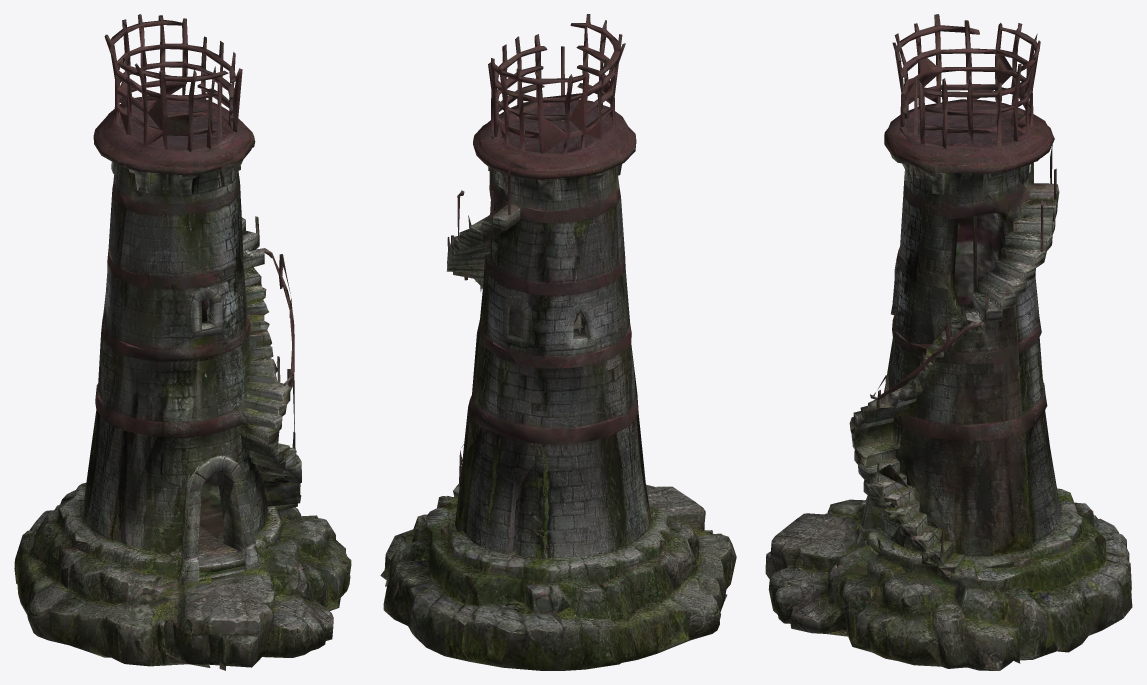
3 views of the same model, side by side, from view 1: azimuth 30°, elevation 25°; view 2: azimuth 150°, elevation 25°; view 3: azimuth 270°, elevation 25° (orthographic).
Visible parts, largest first — view 1: Mesh_0; view 2: Mesh_0; view 3: Mesh_0.
Boxes of the visible parts, x1,y1,x2,y2 form: Mesh_0: (14,14,351,670); Mesh_0: (380,14,736,670); Mesh_0: (765,14,1132,670).
Size of the model in its own units: 7.01 by 12 by 7.2.
1 material, 1 textured.
